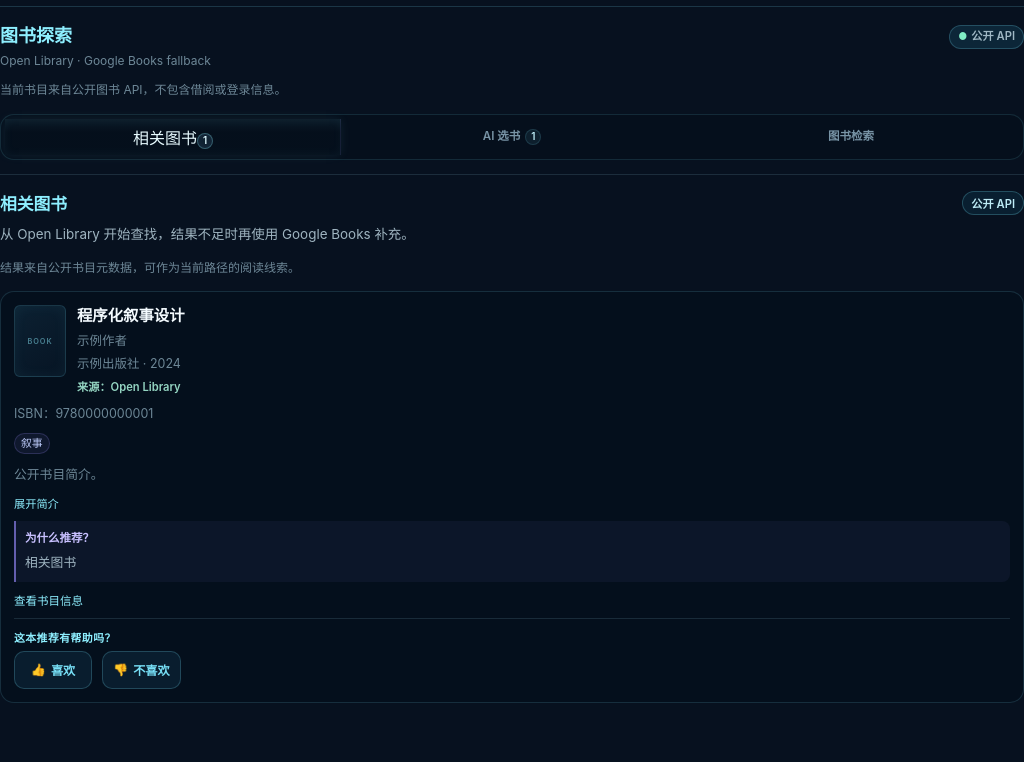
LibraryWorkspace public-book modes › shows only the selected public-book mode while retaining the other results
Expected: the heading "程序化叙事设计" is shown, [77,306,184,327]
Click the tab "AI 选书 1".
click(512, 137)  # box [344,119,680,155]
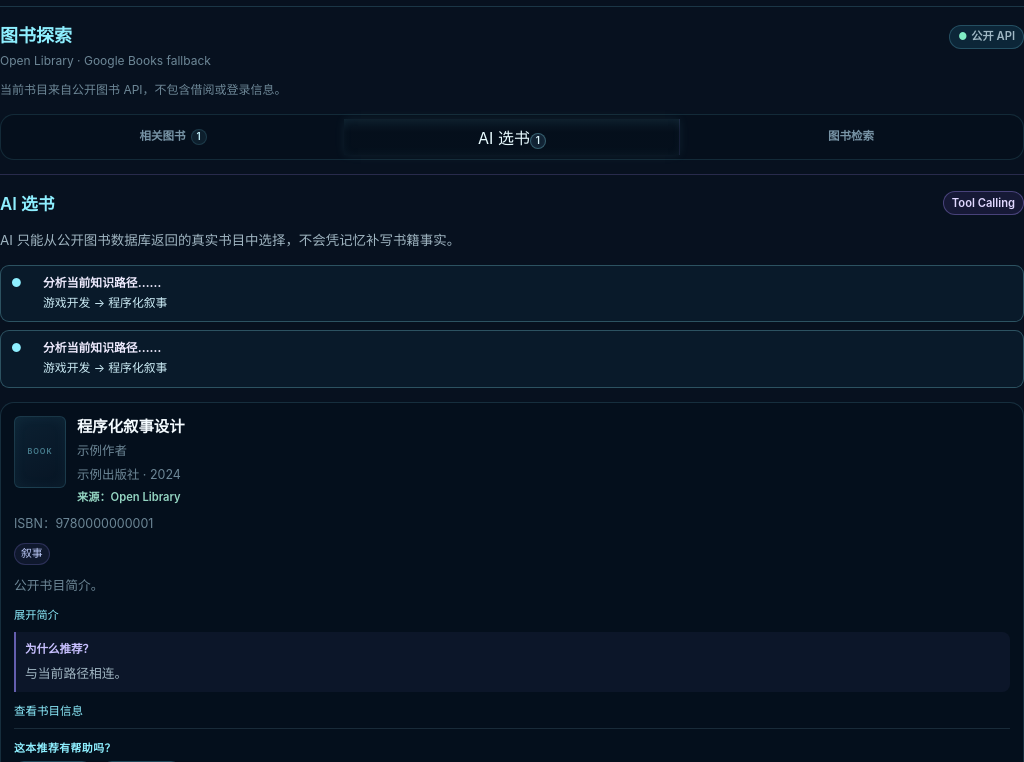
Click the tab "图书检索".
click(851, 137)  # box [683,119,1019,155]
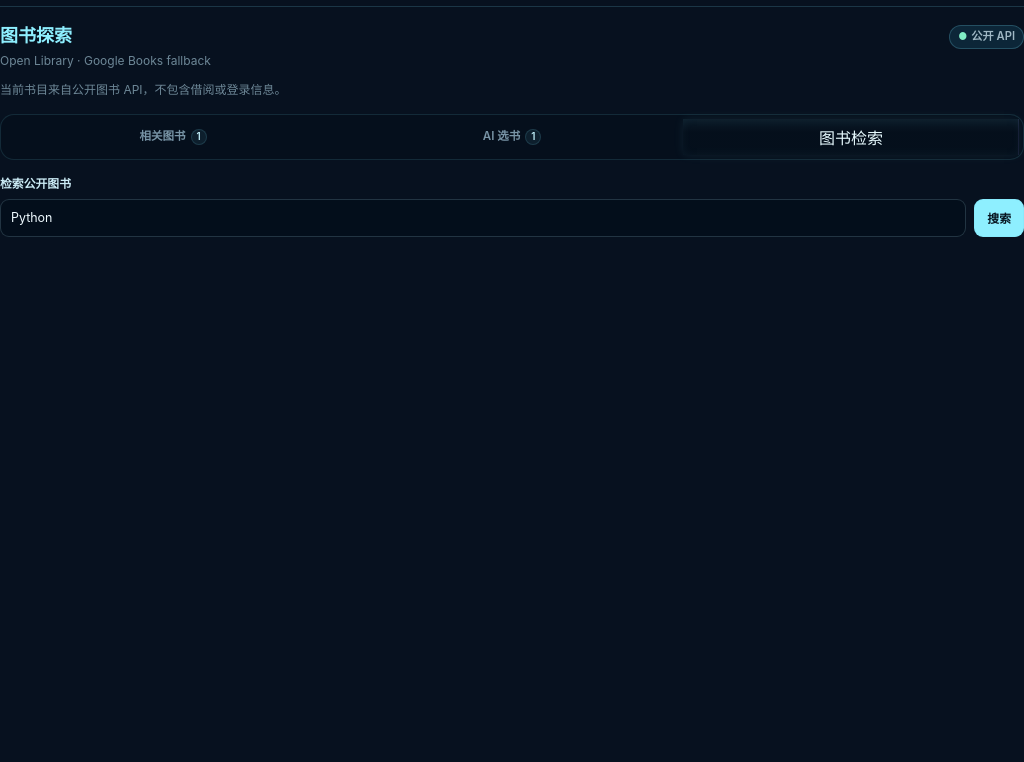
Result: the field showing "Python" is shown at [0,199,966,237]
